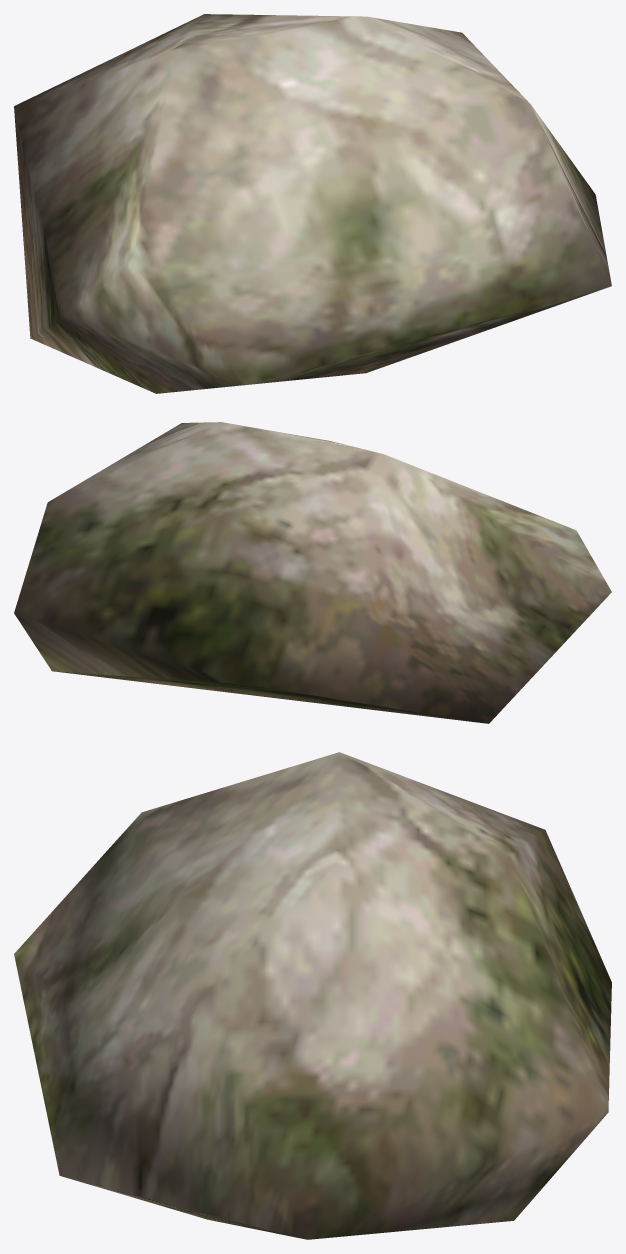
Rendered from obj_macoprro04.glb.
3 views of the same model, one above another, from view 1: azimuth 30°, elevation 25°; view 2: azimuth 150°, elevation 25°; view 3: azimuth 270°, elevation 25° (orthographic). The views are drawn at different scales.
Visible parts, largest first — view 1: part_0; view 2: part_0; view 3: part_0.
Boxes of the visible parts, left/top/right/bottom form: part_0: left=14, top=14, right=611, bottom=393; part_0: left=14, top=422, right=611, bottom=723; part_0: left=14, top=752, right=611, bottom=1239.
Size of the model in its own units: 1.22 by 0.5245 by 0.9419.
1 material, 1 textured.
